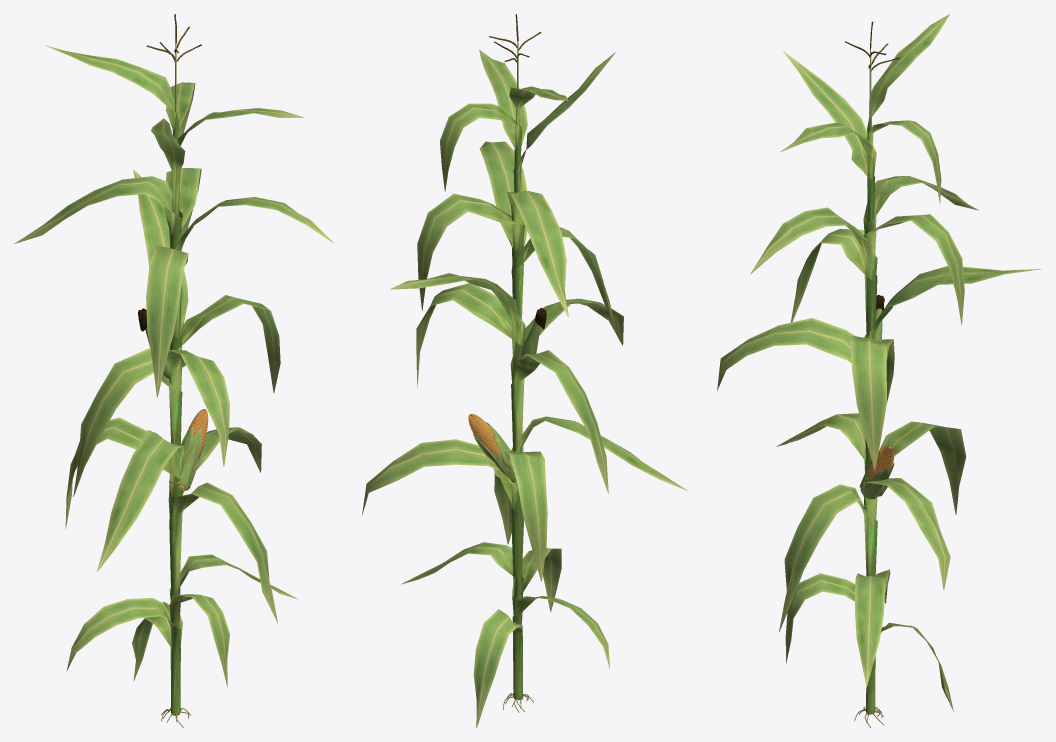
Rendered from jagungg.fbx.
3 renders of one model, left to right at view 1: azimuth 30°, elevation 25°; view 2: azimuth 150°, elevation 25°; view 3: azimuth 270°, elevation 25°, orthographic.
Visible parts, largest first — view 1: Plane.013, Plane.016, Plane.020, Plane.012, Plane.019, Plane.021, Plane.011, Plane.018, Plane.017, Plane.025, Plane.008, Plane.014 (+9 smaller); view 2: Plane.016, Plane.021, Plane.015, Plane.008, Plane.022, Plane.014, Plane.018, Plane.023, Plane.026, Plane.027, Plane.017, Plane.012 (+9 smaller); view 3: Plane.012, Plane.018, Plane.019, Plane.024, Plane.009, Plane.014, Plane.015, Plane.023, Plane.020, Plane.022, Plane.017, Plane.025 (+7 smaller).
Part boxes in pixels (bbox=[...]): Plane.013: bbox=[97, 430, 183, 571]; Plane.016: bbox=[73, 348, 182, 496]; Plane.020: bbox=[146, 245, 188, 397]; Plane.012: bbox=[169, 482, 277, 623]; Plane.019: bbox=[166, 350, 229, 466]; Plane.021: bbox=[14, 176, 182, 243]; Plane.011: bbox=[66, 598, 180, 670]; Plane.018: bbox=[169, 295, 280, 392]; Plane.017: bbox=[133, 169, 188, 349]; Plane.025: bbox=[44, 45, 179, 131]; Plane.008: bbox=[132, 602, 182, 715]; Plane.014: bbox=[65, 417, 182, 529]; Plane.016: bbox=[511, 350, 608, 493]; Plane.021: bbox=[507, 190, 568, 317]; Plane.015: bbox=[362, 439, 521, 515]; Plane.008: bbox=[473, 609, 523, 727]; Plane.022: bbox=[417, 193, 524, 310]; Plane.014: bbox=[504, 451, 547, 581]; Plane.018: bbox=[416, 283, 525, 387]; Plane.023: bbox=[479, 141, 527, 269]; Plane.026: bbox=[440, 103, 521, 191]; Plane.027: bbox=[479, 49, 527, 170]; Plane.017: bbox=[390, 273, 525, 345]; Plane.012: bbox=[494, 473, 523, 581]; Plane.012: bbox=[779, 484, 877, 631]; Plane.018: bbox=[850, 335, 886, 470]; Plane.019: bbox=[717, 318, 855, 390]; Plane.024: bbox=[783, 51, 876, 222]; Plane.009: bbox=[855, 573, 885, 687]; Plane.014: bbox=[878, 421, 966, 514]; Plane.015: bbox=[863, 478, 950, 589]; Plane.023: bbox=[750, 207, 877, 280]; Plane.020: bbox=[790, 228, 877, 336]; Plane.022: bbox=[863, 214, 964, 325]; Plane.017: bbox=[864, 266, 1041, 340]; Plane.025: bbox=[867, 14, 949, 134].
Bounding box in the file's own units: 231 × 627 × 264.
Materials: 4 (3 with a texture image).
